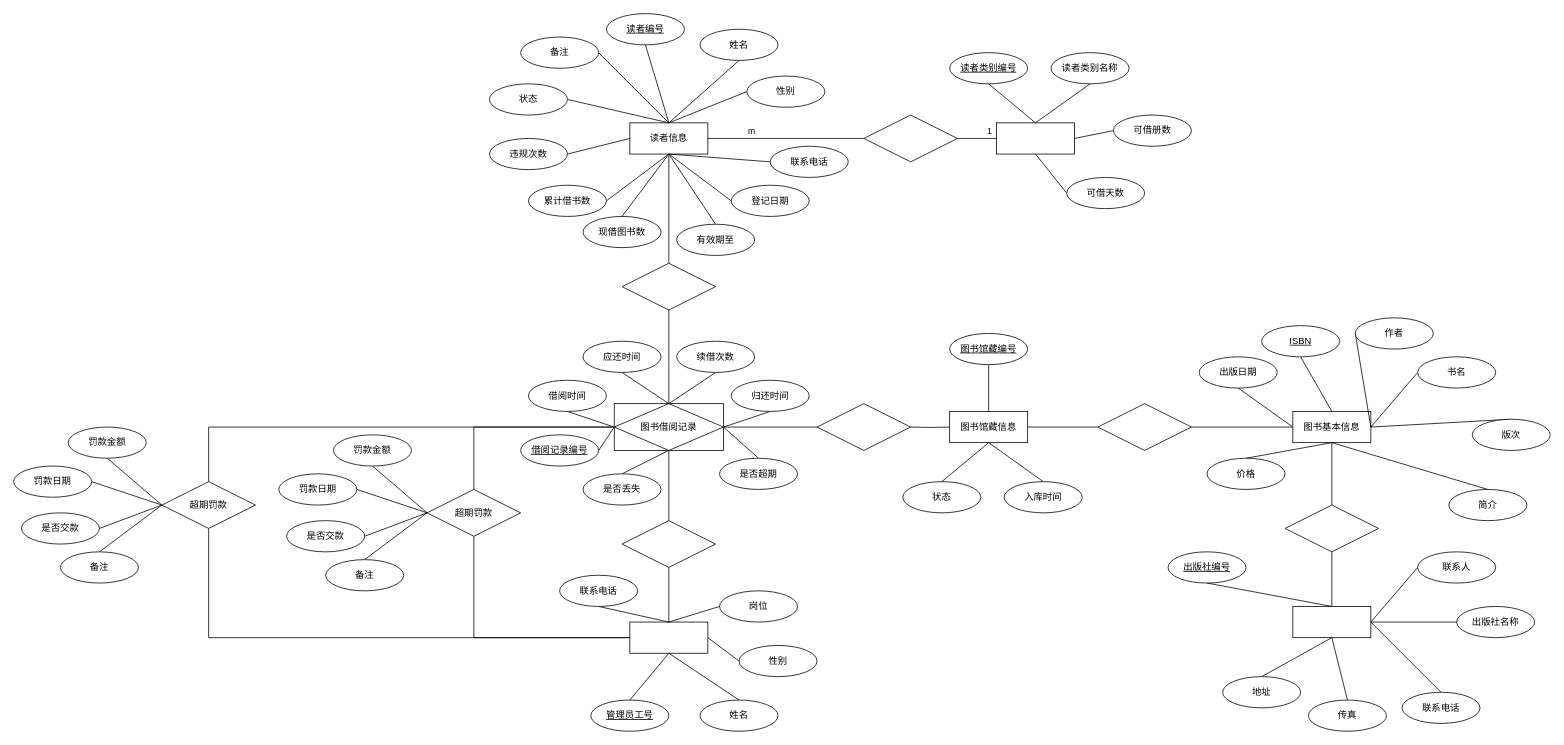
The diagram is 1564 pixels wide and 745 high, and some of its shapes have lost their labels. Each missing label, with the centre of its shape:
"出版" goes at point 1331,528.
"出版社信息" goes at point 1331,622.
"分类" goes at point 910,138.
"包含" goes at point 863,426.
"拥有" goes at point 668,286.
"管理员" goes at point 668,637.
"管理员信息" goes at point 668,543.
"读者类别" goes at point 1035,138.
"馆藏" goes at point 1144,426.
